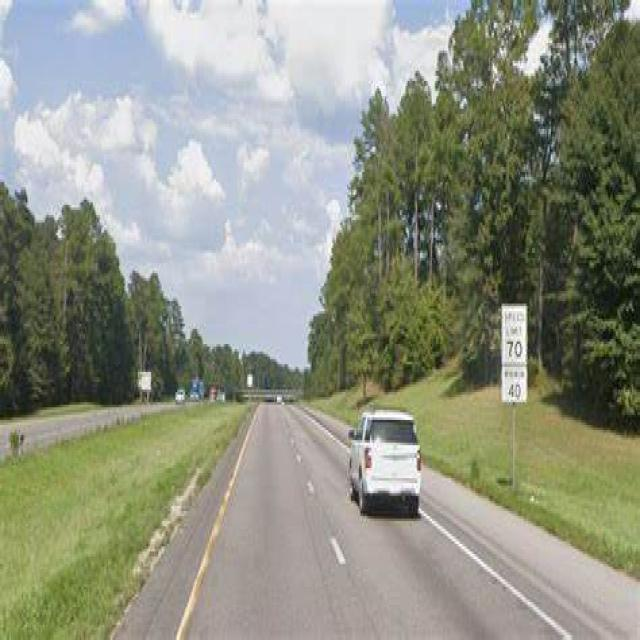speedLimit70: (500, 305, 530, 406)
